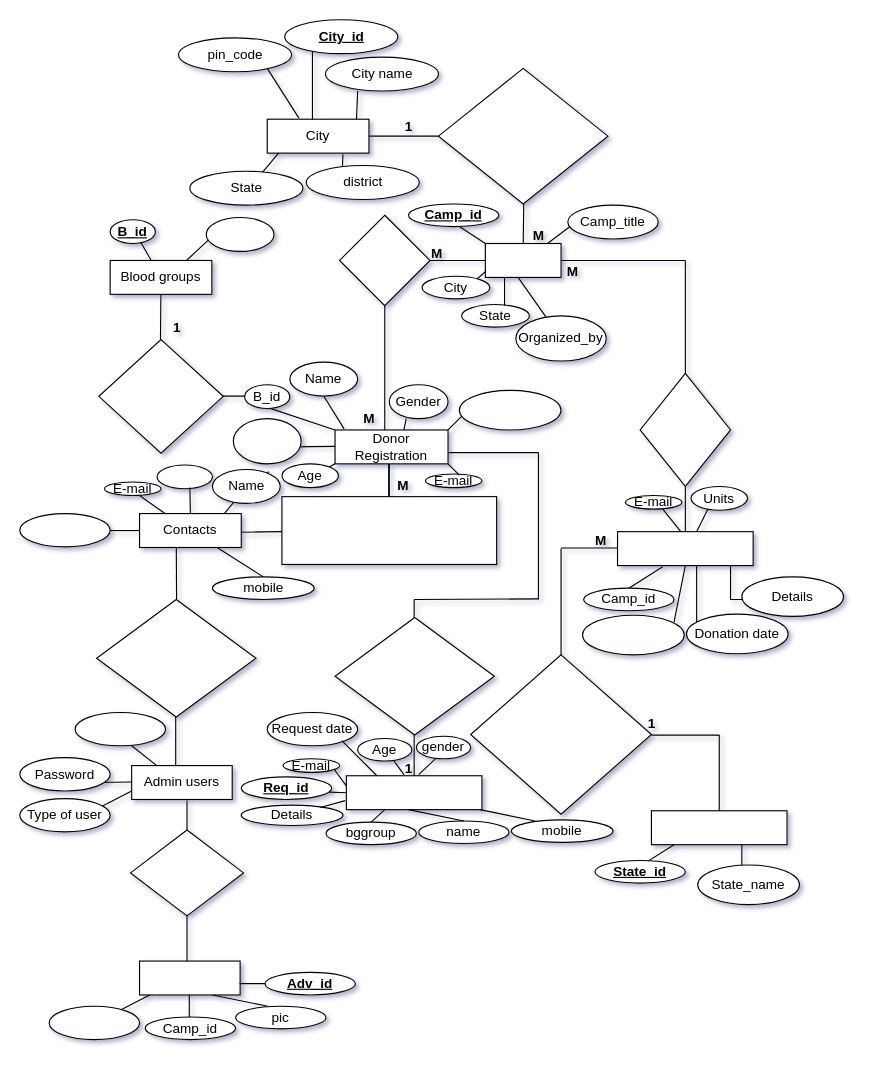
Image size: 870x1067. Some labels were removed from this diagram. The box of each missing label's shape, as (x1, y1, x2, y2) in pixels:
Add: (138, 960, 240, 995)
Admin are read the user message: (95, 598, 256, 717)
Bg_Name: (205, 216, 274, 251)
BLOOD BANK MANAGEMENT SYSTEM: (281, 496, 497, 564)
Camp: (484, 242, 561, 277)
Camps are organized in different city: (437, 67, 608, 204)
Donation: (616, 531, 753, 566)
Donation_id: (581, 614, 684, 655)
Donor are donate blood different state: (470, 654, 651, 814)
Donor are donate blood in camp: (639, 372, 731, 486)
Donor id: (232, 418, 301, 464)
Donor Register in camp: (338, 214, 430, 306)
Donor send request for blood: (334, 616, 494, 735)
Mobile number: (458, 389, 561, 430)
Org by: (48, 1005, 140, 1040)
Request: (345, 775, 482, 810)
Row_id: (156, 464, 212, 489)
States: (650, 810, 787, 845)
Subject: (19, 512, 110, 547)
User find blood with blood id: (98, 338, 223, 453)
User given add: (129, 829, 244, 916)
User name: (74, 711, 166, 746)
